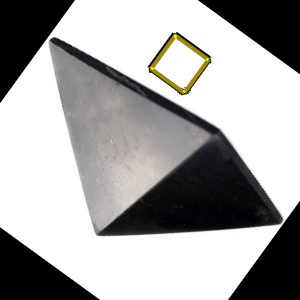square: (148, 30, 212, 95)
